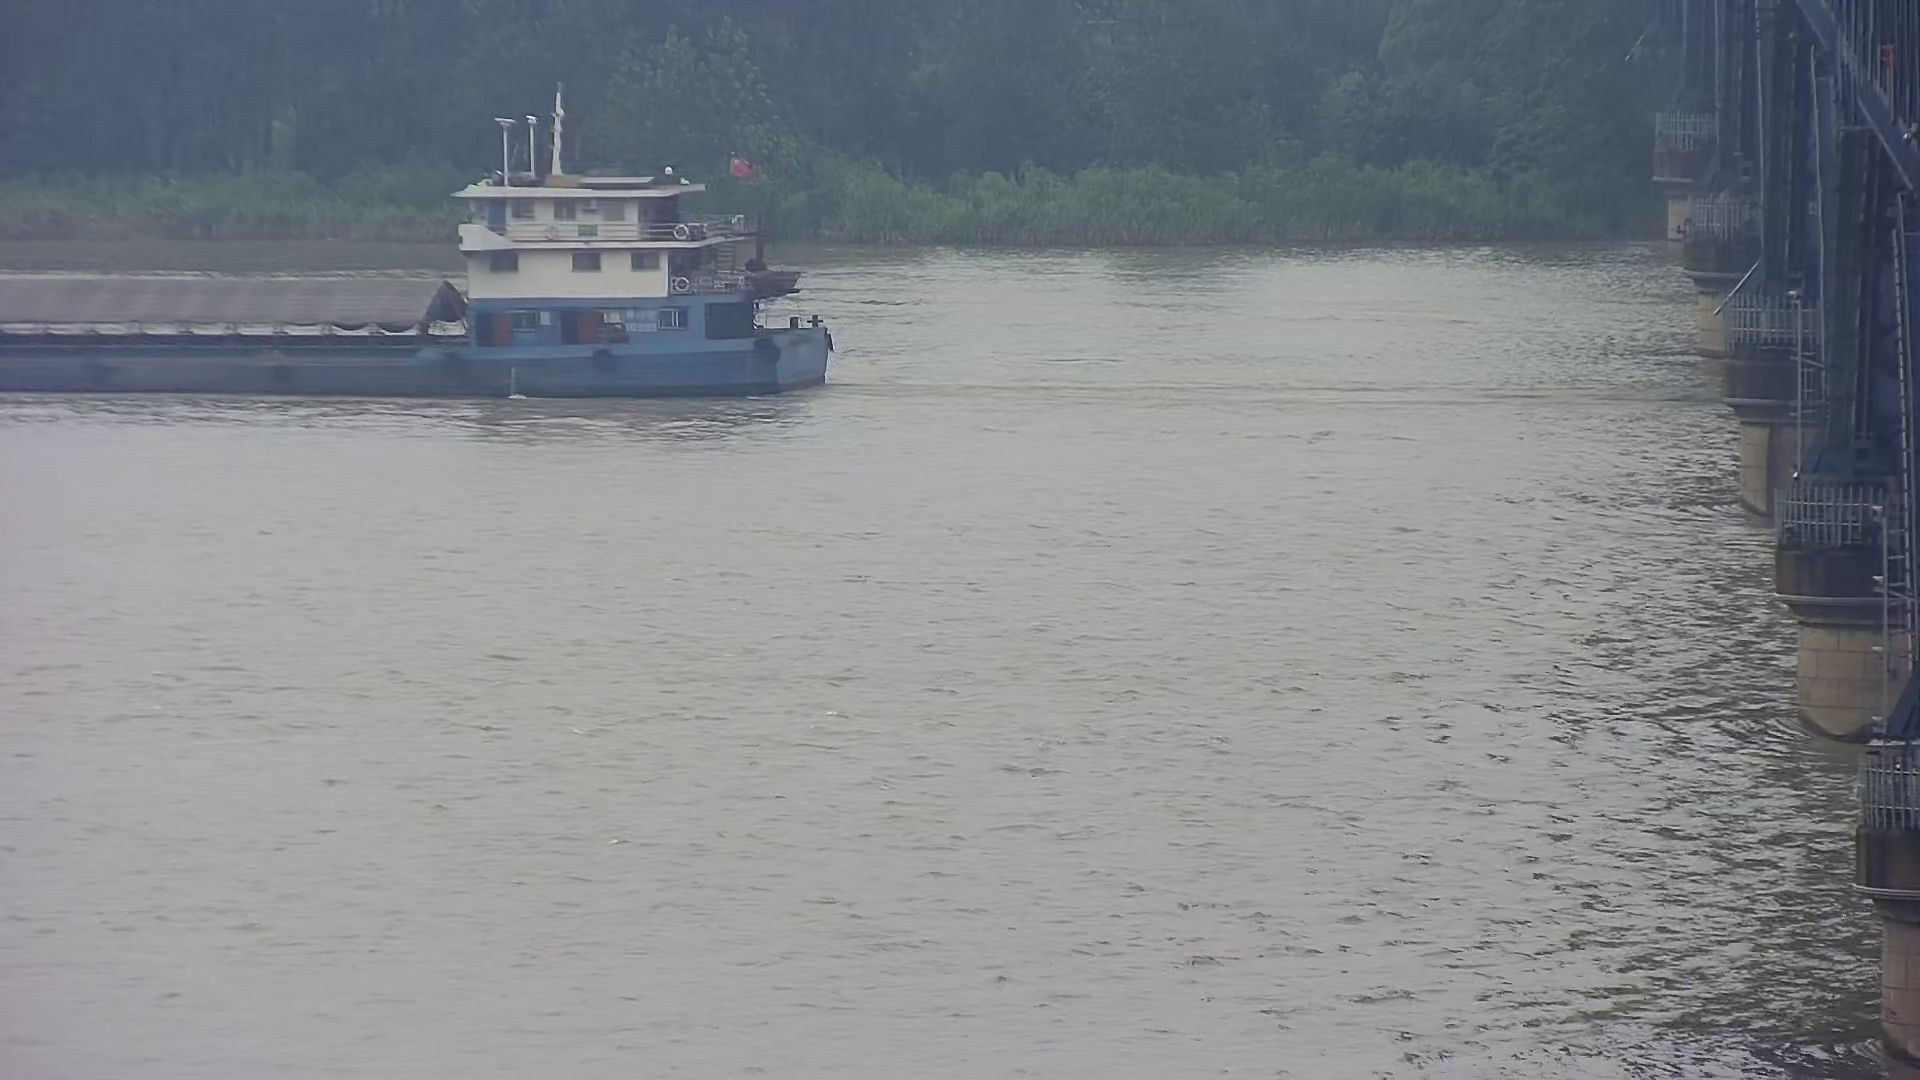bridge: (1598, 1, 1920, 1080)
ship: (1, 66, 862, 407)
